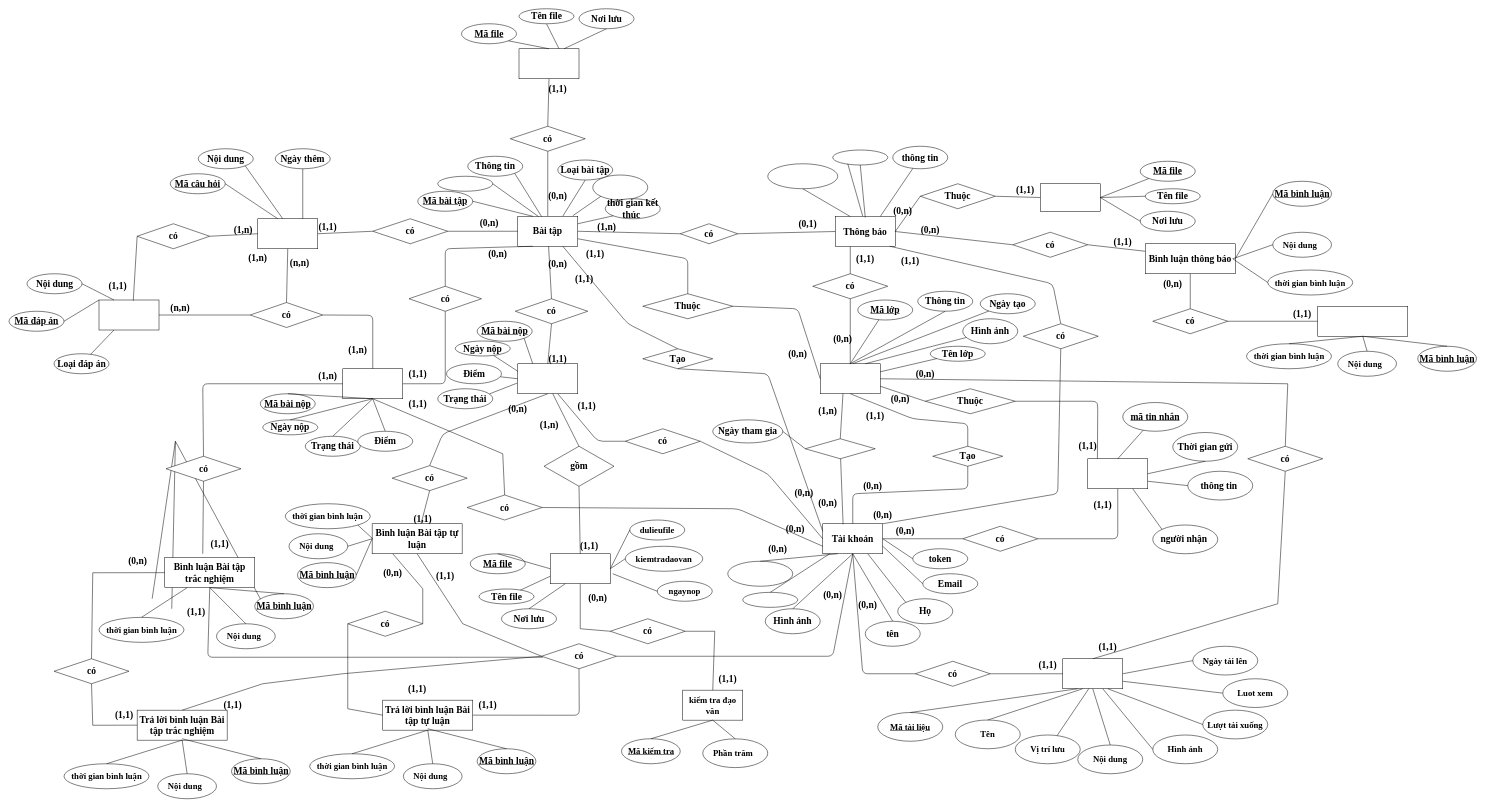
Some shapes in this 1485 by 808 pixel diagram are drawn without their labels. Each missing label, with the centre of its shape:
"Bài tập trắc nghiệm" belongs at point 372,383.
"Bài tập tự luận" belongs at point 547,378.
"Chủ đề" belongs at point 465,183.
"Câu hỏi" belongs at point 287,233.
"file bài tập tự luận" belongs at point 548,63.
"File thông báo" belongs at point 1070,197.
"Lớp học" belongs at point 850,378.
"Mã bài thông báo" belongs at point 802,176.
"Mật khẩu" belongs at point 770,599.
"Ngày đăng" belongs at point 860,157.
"Thành viên" belongs at point 840,448.
"Thông tin bài tập tự luận" belongs at point 580,568.
"thời gian đăng" belongs at point 620,187.
"Tin nhắn" belongs at point 1117,473.
"Trả lời bình luận thông báo" belongs at point 1362,321.
"Tài liệu" belongs at point 1092,673.
"Tên đăng nhập" belongs at point 760,573.
"Đáp án" belongs at point 128,315.
